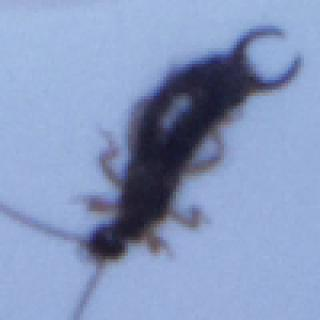earwig: (0, 22, 307, 320)
